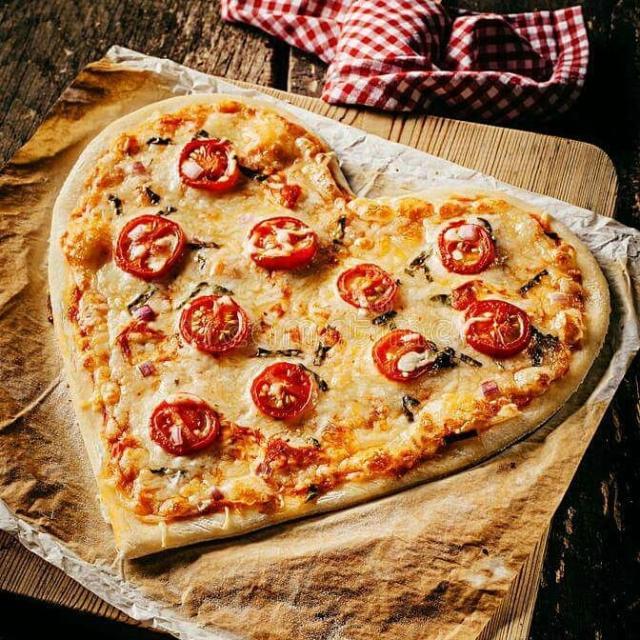pizza: (48, 93, 610, 560)
tomatoes: (114, 213, 188, 280), (148, 392, 224, 457), (247, 361, 316, 424), (180, 292, 250, 354), (464, 298, 534, 357), (247, 217, 321, 270), (368, 328, 436, 384), (178, 138, 240, 194), (436, 218, 496, 275), (337, 262, 400, 313)
